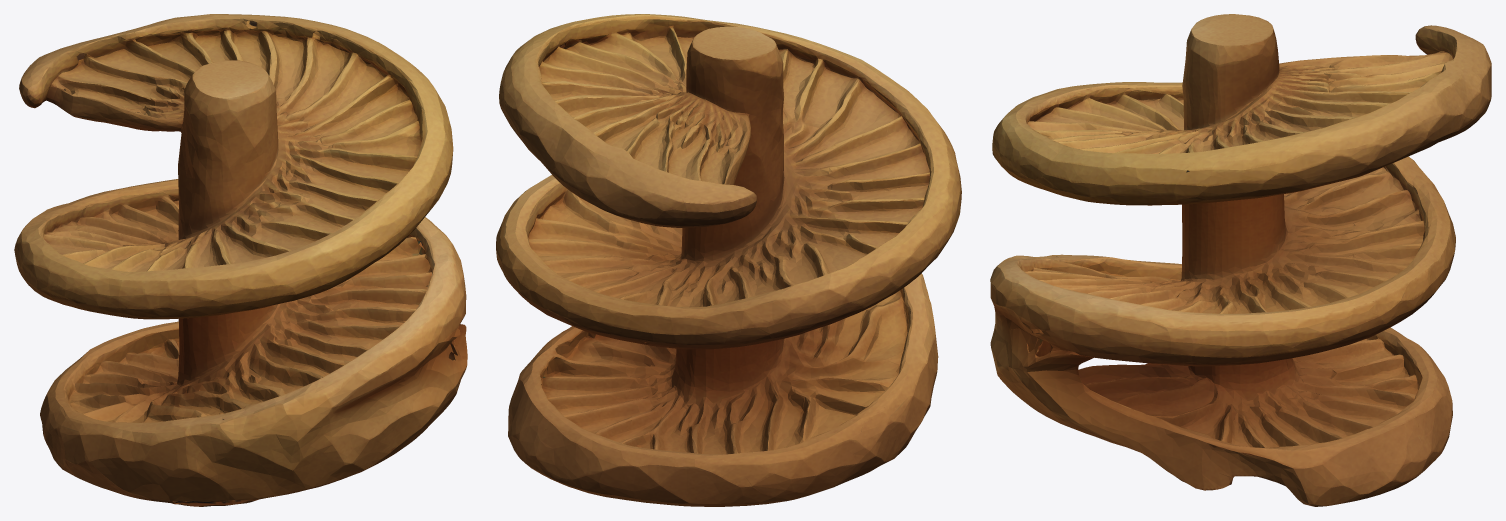
The picture shows the model from 3 angles, left to right: view 1: azimuth 30°, elevation 25°; view 2: azimuth 150°, elevation 25°; view 3: azimuth 270°, elevation 25°; orthographic projection. The views are drawn at different scales.
Parts seen in each view (by area): view 1: world; view 2: world; view 3: world.
Boxes of the visible parts, <box> form: world: <box>14,14,467,506</box>; world: <box>496,14,961,506</box>; world: <box>990,14,1491,506</box>.
Bounding box in the file's own units: 0.1618 × 0.1475 × 0.17.
1 material, 1 textured.
